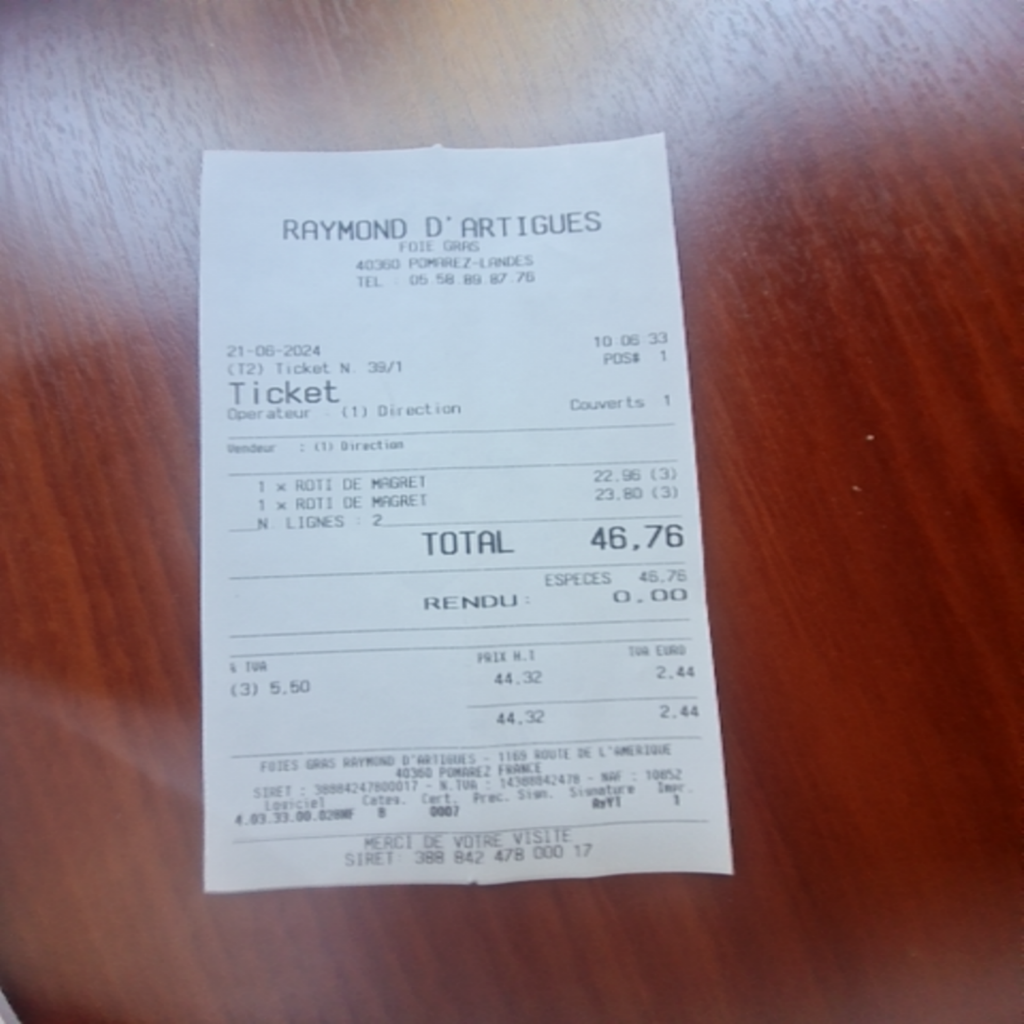recipt: (197, 136, 732, 892)
